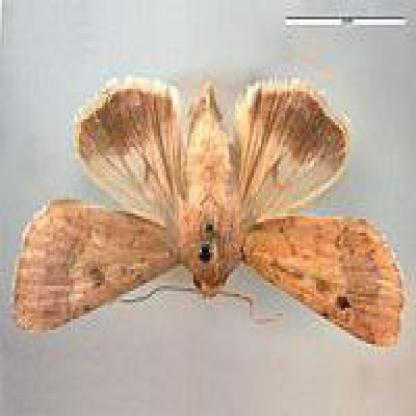helicoverpa: (11, 80, 405, 349)
